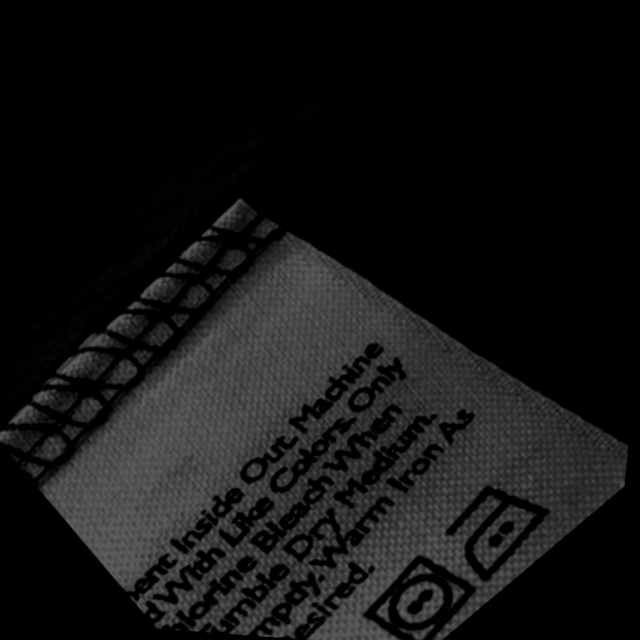iron_medium: (444, 482, 557, 583)
tumble_dry_medium: (364, 553, 481, 640)
